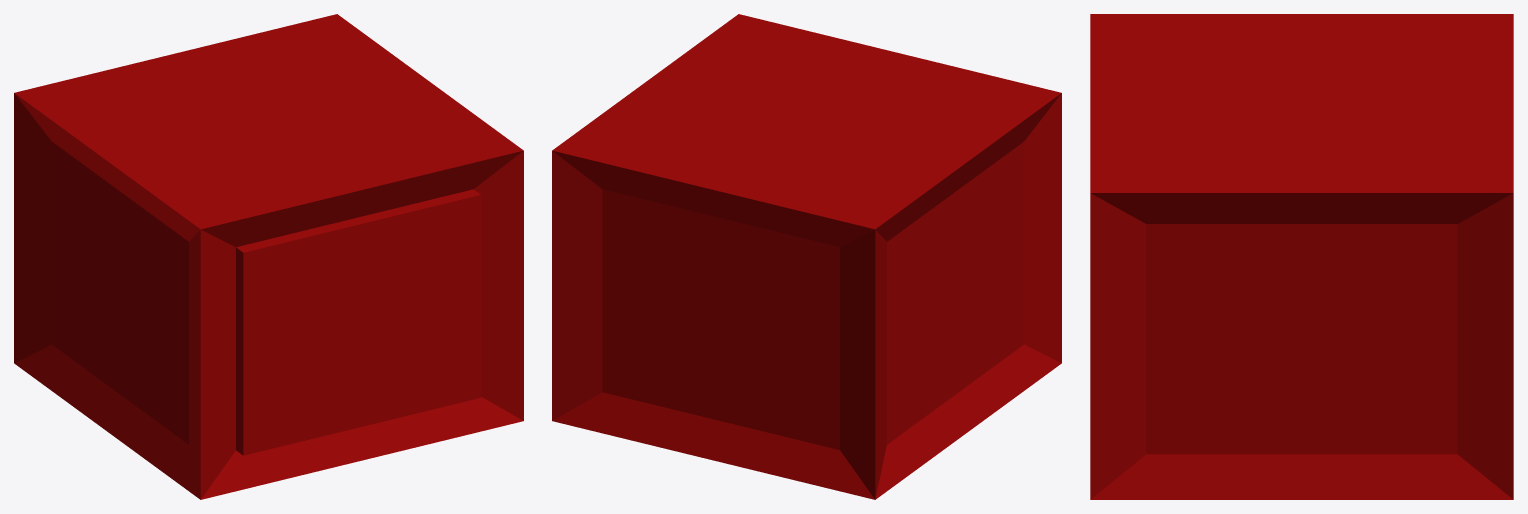
Rendered from VelocitySensor.obj.
3 renders of one model, left to right at view 1: azimuth 30°, elevation 25°; view 2: azimuth 150°, elevation 25°; view 3: azimuth 270°, elevation 25°, orthographic. The views are drawn at different scales.
Parts seen in each view (by area): view 1: Handle; view 2: Handle; view 3: Handle.
Boxes of the visible parts, x1=… form: Handle: x1=14, y1=14, x2=523, y2=499; Handle: x1=552, y1=14, x2=1061, y2=499; Handle: x1=1090, y1=14, x2=1513, y2=499.
Size of the model in its own units: 0.6 by 0.48 by 0.6.
